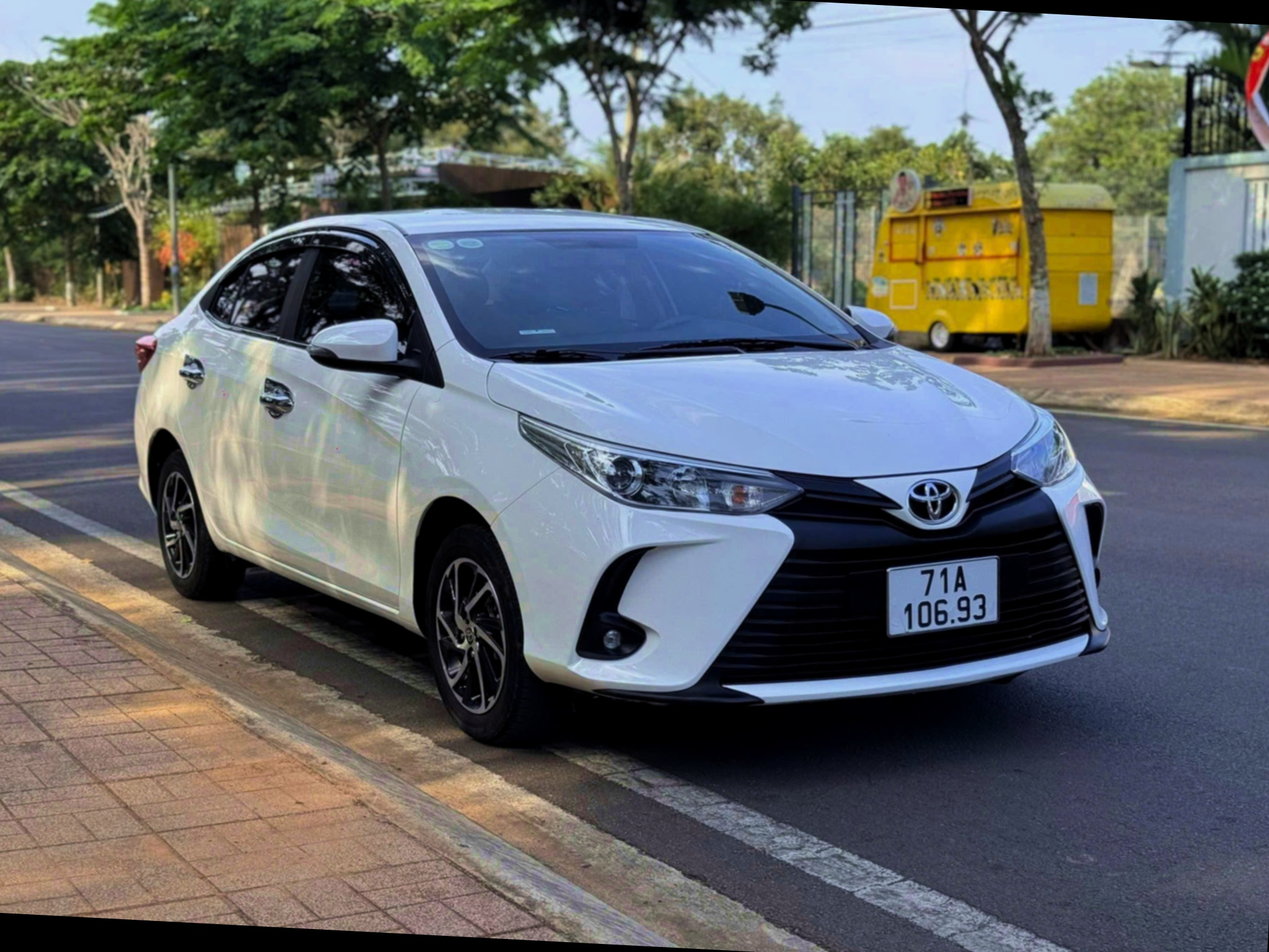Bien-so: (882, 547, 1005, 638)
